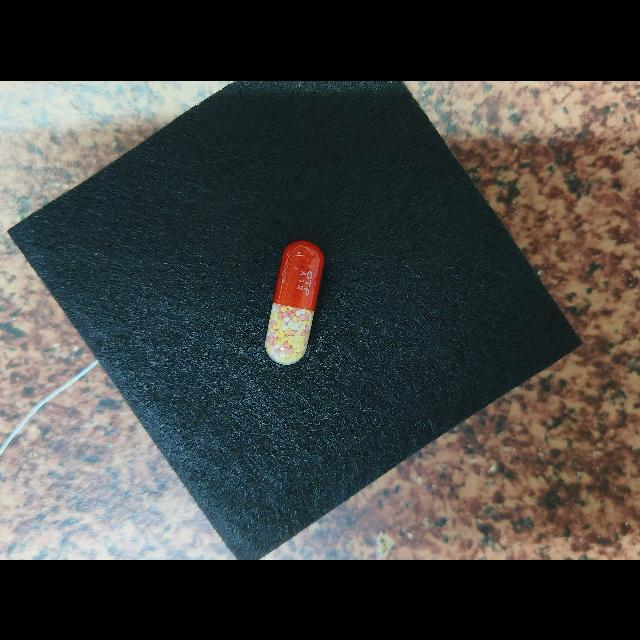Intact Capsule: (265, 239, 325, 364)
